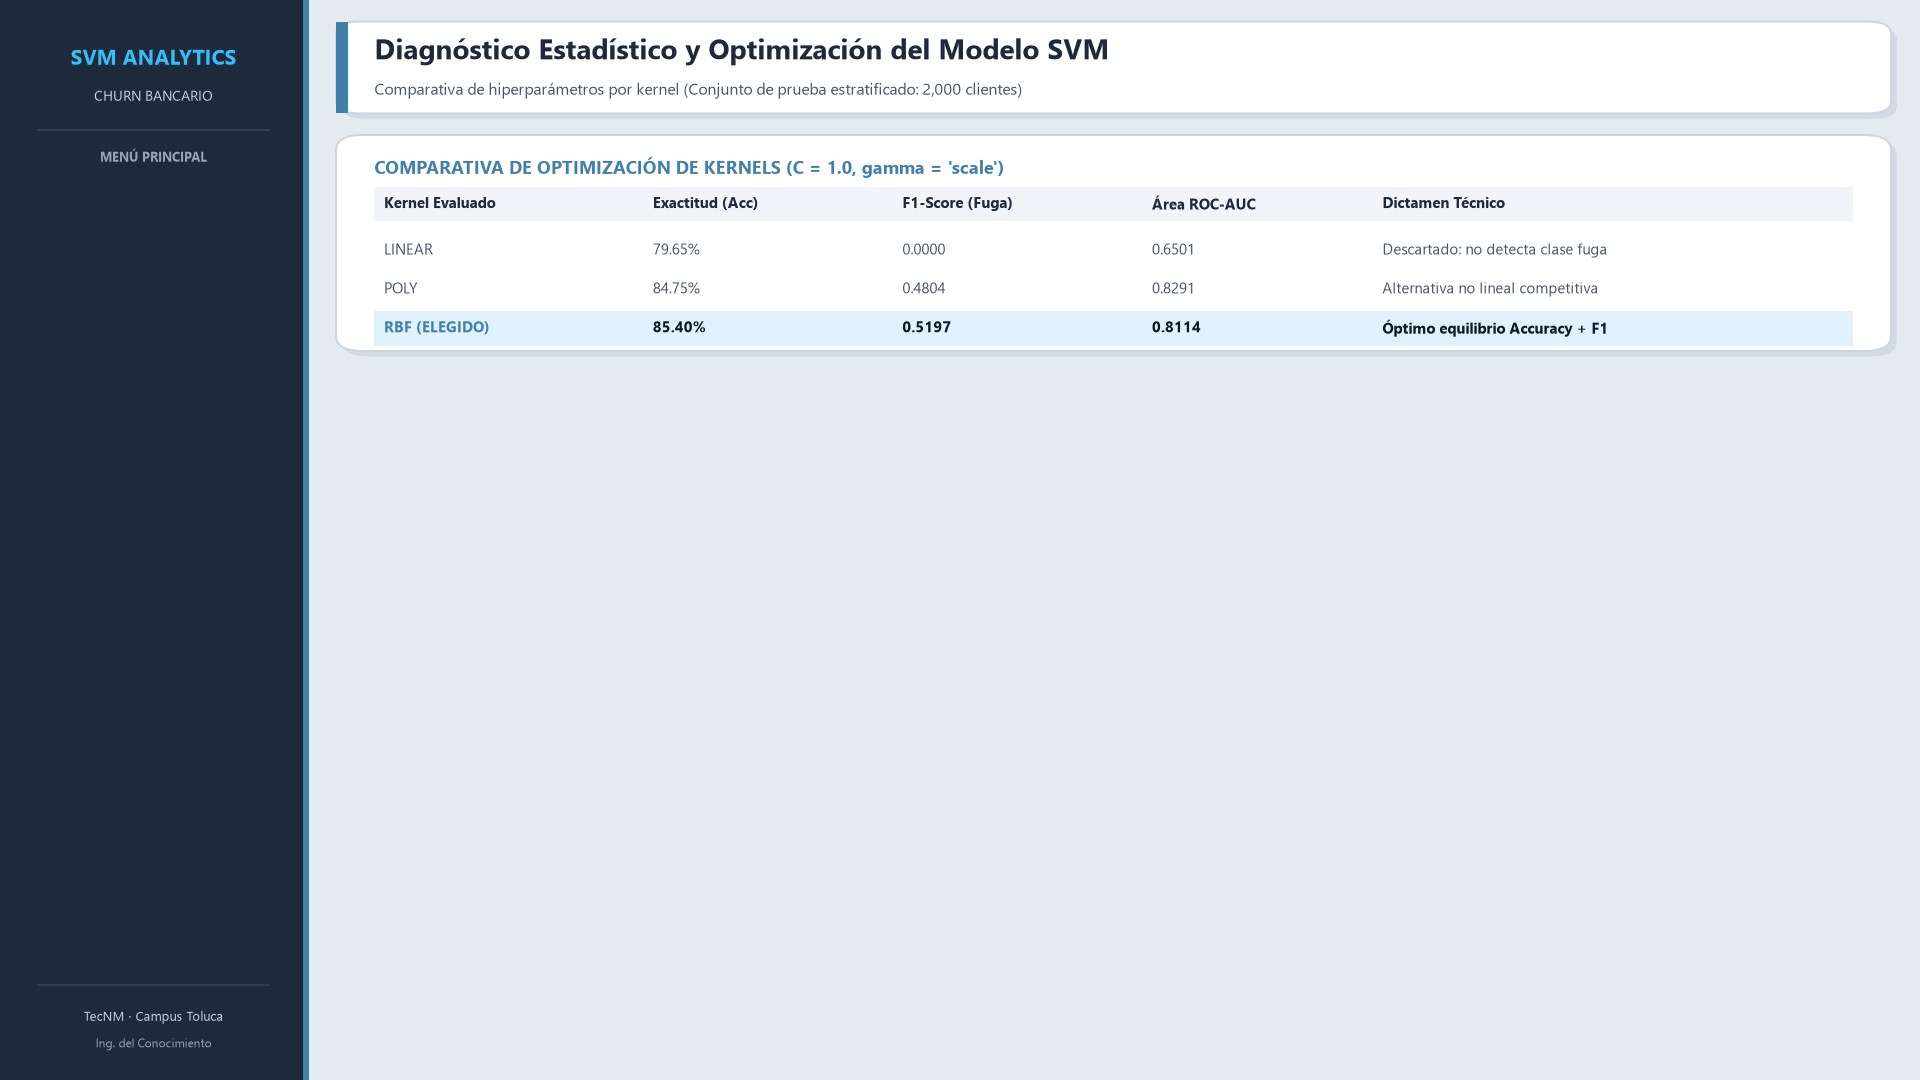

What the dashboard file says about the page in this screenshot:
{"tool":"powerbi","page":{"name":"Diagnóstico SVM","canvas":[1920,1080],"ordinal":2},"visuals":[{"type":"pageNavigator","box":[52,249.8,188.7,655.8],"z":3000},{"type":"clusteredBarChart","title":"Saldo Total por Nivel Crediticio y Predicción","fields":{"Category":["churn_powerbi_dashboard.Nivel_CreditScore"],"Series":["churn_powerbi_dashboard.Etiqueta_Prediccion"],"Y":["Sum(churn_powerbi_dashboard.Saldo_MXN)"]},"box":[334.4,415.1,473.6,563.4],"z":3001},{"type":"image","box":[874.4,415.1,472.3,563.4],"z":3002},{"type":"image","box":[1420.9,415.1,473.6,563.4],"z":3003}]}

Visuals, with their boxes on the page's 1920x1080 design canvas (x1, y1, x2, y2). These are canvas units, not pixel positions in the 1920x1080 screenshot, which may show the page scaled, cropped or inside an application window:
pageNavigator: detection(52, 250, 241, 906)
"Saldo Total por Nivel Crediticio y Predicción" clusteredBarChart: detection(334, 415, 808, 978)
image: detection(874, 415, 1347, 978)
image: detection(1421, 415, 1894, 978)
